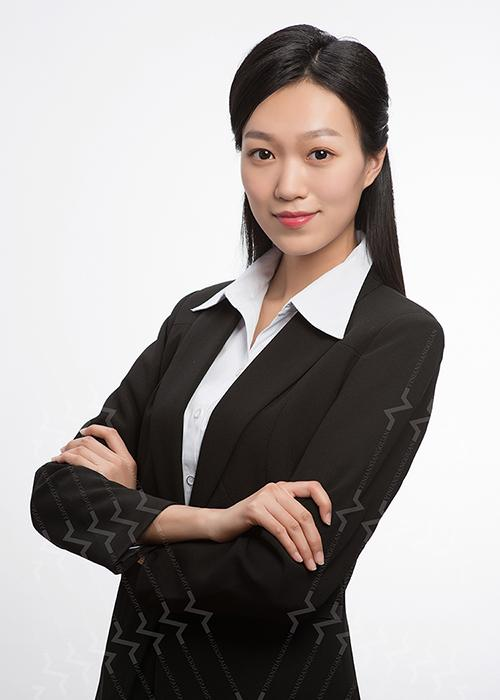unmask: (235, 89, 366, 244)
